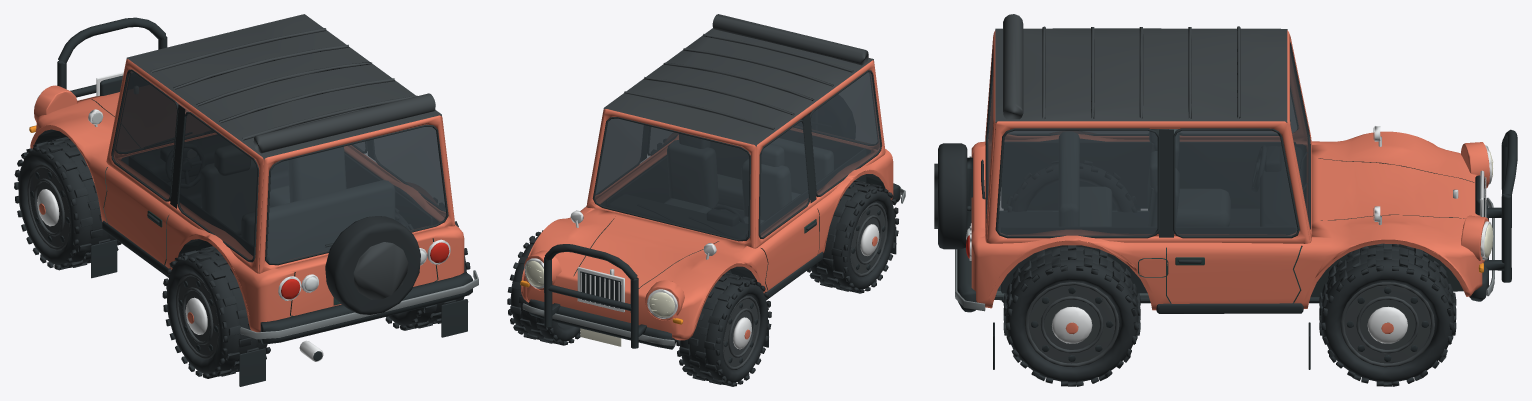
File: tumbler_lod2.fbx
3 renders of one model, left to right at view 1: azimuth 30°, elevation 25°; view 2: azimuth 150°, elevation 25°; view 3: azimuth 270°, elevation 25°, orthographic. The views are drawn at different scales.
Visible parts, largest first — view 1: Body, Wheel_FL_Mesh, Wheel_RL_Mesh, Wheel_RR_Mesh; view 2: Body, Wheel_FL_Mesh, Wheel_RL_Mesh, Wheel_FR_Mesh; view 3: Body, Wheel_FR_Mesh, Wheel_RR_Mesh, Wheel_RL_Mesh.
Part boxes in pixels (x1=…): Body: x1=29, y1=14, x2=478, y2=386; Wheel_FL_Mesh: x1=14, y1=137, x2=121, y2=270; Wheel_RL_Mesh: x1=162, y1=246, x2=270, y2=378; Wheel_RR_Mesh: x1=385, y1=208, x2=470, y2=330; Body: x1=520, y1=14, x2=905, y2=349; Wheel_FL_Mesh: x1=676, y1=272, x2=771, y2=386; Wheel_RL_Mesh: x1=807, y1=180, x2=898, y2=293; Wheel_FR_Mesh: x1=507, y1=230, x2=580, y2=345; Body: x1=934, y1=14, x2=1517, y2=369; Wheel_FR_Mesh: x1=1319, y1=243, x2=1456, y2=386; Wheel_RR_Mesh: x1=1003, y1=245, x2=1140, y2=386; Wheel_RL_Mesh: x1=1004, y1=160, x2=1140, y2=212.
Bounding box in the file's own units: 210 × 199 × 396.
